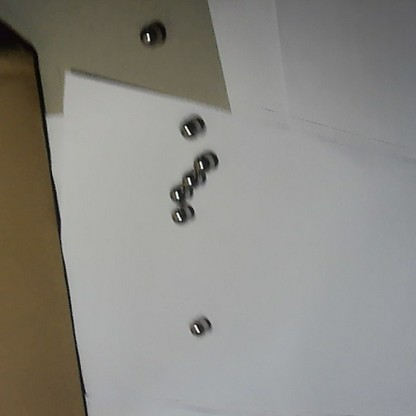ironball: (177, 113, 208, 141), (137, 21, 167, 47), (166, 202, 195, 225), (169, 179, 194, 204), (192, 150, 219, 173), (181, 167, 206, 190), (184, 316, 210, 336)
